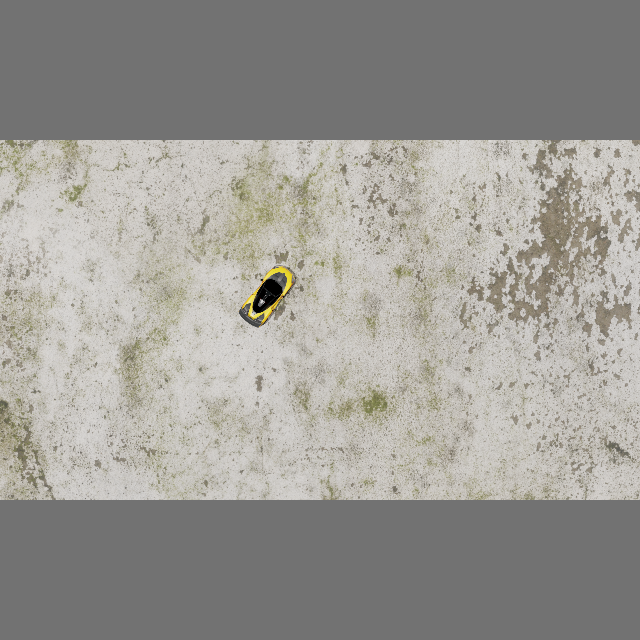car: (234, 259, 300, 332)
